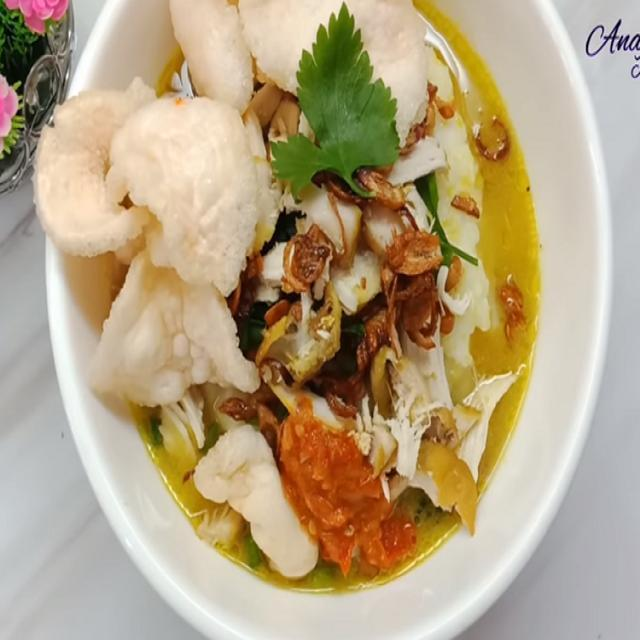bubur ayam: (36, 0, 543, 600)
mangkuk: (43, 0, 612, 640)
